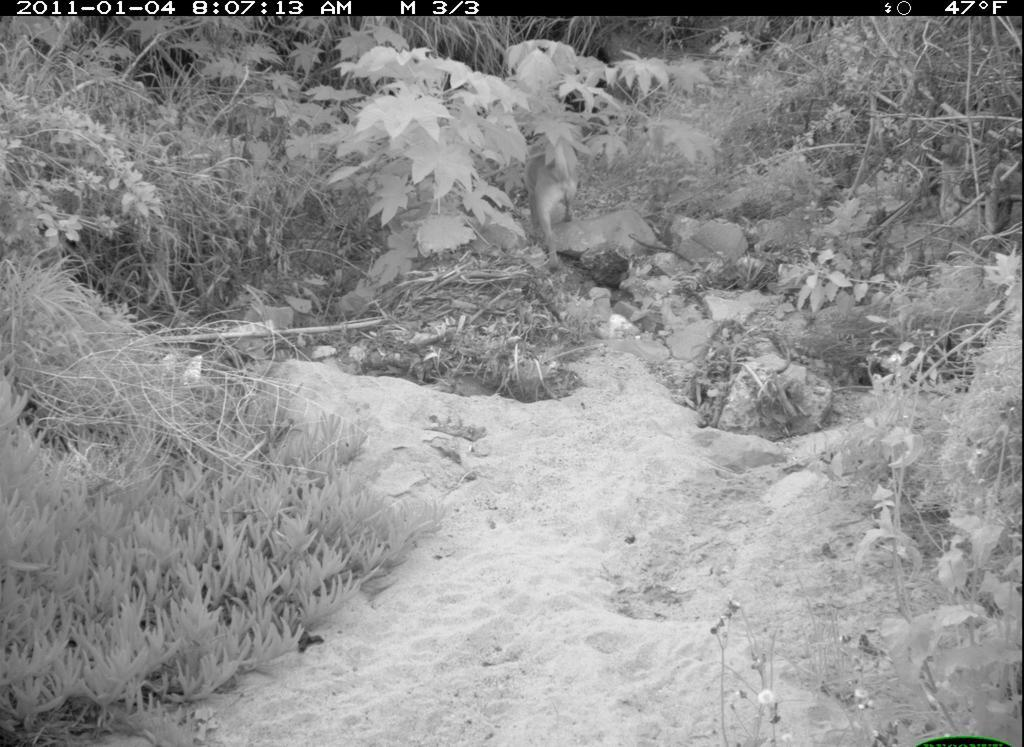dog: (520, 131, 592, 276)
